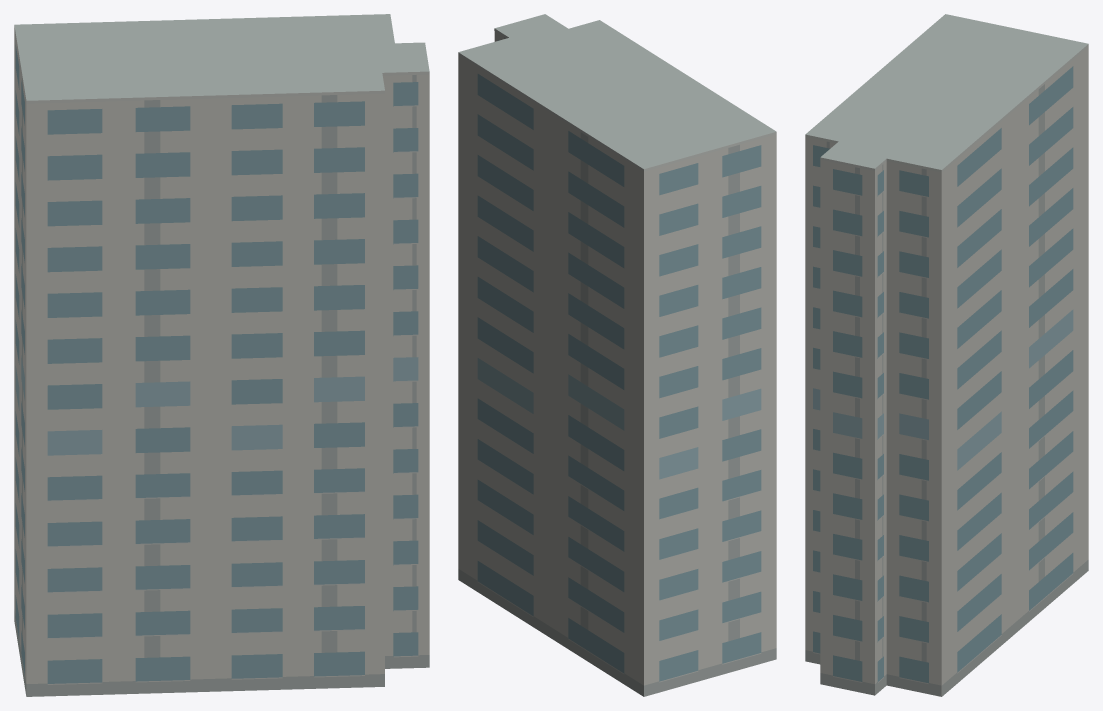
Rendered from residential-7bb83b4b-9fbf-4409-9c7a-e10badd13281.glb.
3 views of the same model, side by side, from view 1: azimuth 30°, elevation 25°; view 2: azimuth 150°, elevation 25°; view 3: azimuth 270°, elevation 25° (orthographic). The views are drawn at different scales.
Visible parts, largest first — view 1: residential-7bb83b4b-9fbf-4409-9c7a-e10badd13281.tmp; view 2: residential-7bb83b4b-9fbf-4409-9c7a-e10badd13281.tmp; view 3: residential-7bb83b4b-9fbf-4409-9c7a-e10badd13281.tmp.
Part boxes in pixels (left/top/right/bottom): residential-7bb83b4b-9fbf-4409-9c7a-e10badd13281.tmp: left=14, top=14, right=429, bottom=696; residential-7bb83b4b-9fbf-4409-9c7a-e10badd13281.tmp: left=458, top=14, right=776, bottom=696; residential-7bb83b4b-9fbf-4409-9c7a-e10badd13281.tmp: left=805, top=14, right=1088, bottom=696.
Size of the model in its own units: 31.78 by 50 by 24.39.
